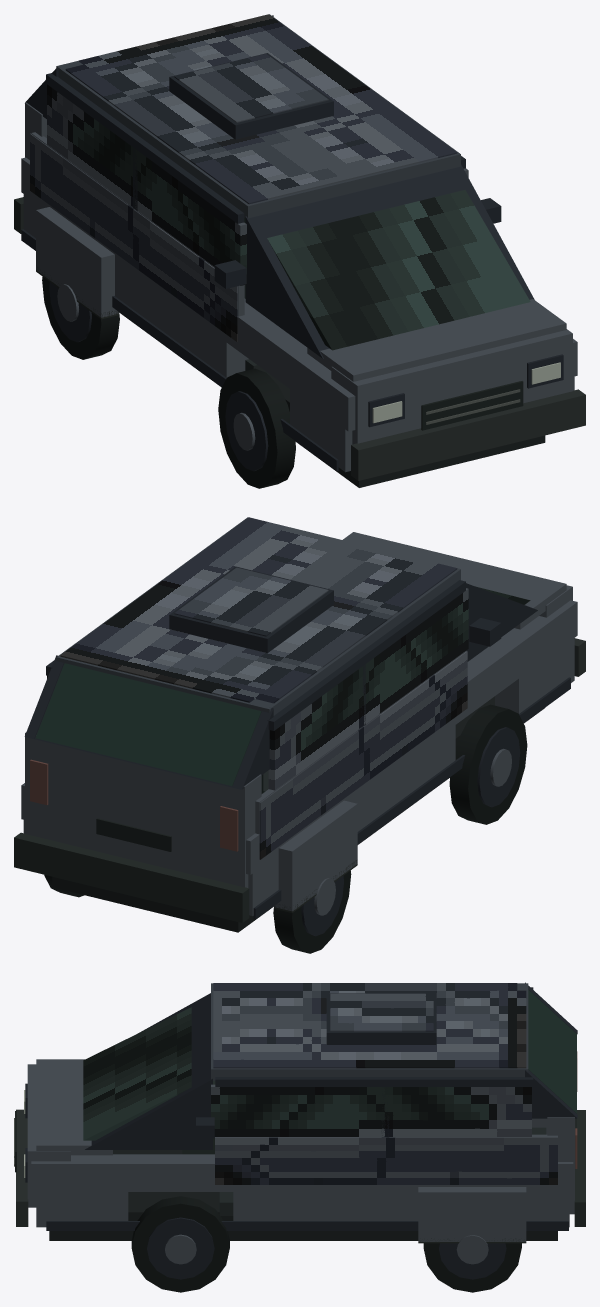
Rendered from CMU3DRMCPropVehicleMonoSupronDesatBlueFlipped.glb.
3 views of the same model, one above another, from view 1: azimuth 30°, elevation 25°; view 2: azimuth 150°, elevation 25°; view 3: azimuth 270°, elevation 25° (orthographic). The views are drawn at different scales.
Parts seen in each view (by area): view 1: source roof panel, continuous sloped windshield, painted side door -1 0, side glazing -1 0, sloping windshield surround, nose lower panel, front bumper, hood top, upper wheel arch rail -1, roof base, roof pod original top, rear wheel cover (+17 smaller); view 2: source roof panel, rear tailgate, raked rear glazing, painted side door -1 0, side glazing -1 0, rear black bumper, upper wheel arch rail -1, roof pod original top, rear wheel cover, tire 1 -1, lower skirt -1 1, hood top (+18 smaller); view 3: source roof panel, painted side door 1 0, side glazing 1 0, continuous sloped windshield, lower skirt 1 1, sloping windshield surround, upper wheel arch rail 1, rear wheel cover, hood top, chassis dark underside, tire 1 1, roof pod original top (+20 smaller).
Boxes of the visible parts, x1=… form: source roof panel: x1=65, y1=14, x2=457, y2=204; continuous sloped windshield: x1=267, y1=190, x2=530, y2=350; painted side door -1 0: x1=30, y1=133, x2=237, y2=341; side glazing -1 0: x1=47, y1=84, x2=246, y2=285; sloping windshield surround: x1=245, y1=164, x2=534, y2=358; nose lower panel: x1=331, y1=329, x2=572, y2=444; front bumper: x1=351, y1=389, x2=585, y2=480; hood top: x1=307, y1=299, x2=566, y2=381; upper wheel arch rail -1: x1=21, y1=157, x2=355, y2=431; roof base: x1=56, y1=14, x2=460, y2=218; roof pod original top: x1=174, y1=54, x2=328, y2=122; rear wheel cover: x1=36, y1=207, x2=119, y2=317; source roof panel: x1=60, y1=517, x2=457, y2=703; rear tailgate: x1=25, y1=732, x2=261, y2=887; raked rear glazing: x1=35, y1=663, x2=261, y2=785; painted side door -1 0: x1=259, y1=651, x2=467, y2=859; side glazing -1 0: x1=268, y1=588, x2=468, y2=790; rear black bumper: x1=14, y1=832, x2=249, y2=922; upper wheel arch rail -1: x1=246, y1=600, x2=577, y2=874; roof pod original top: x1=174, y1=567, x2=328, y2=636; rear wheel cover: x1=274, y1=800, x2=357, y2=911; tire 1 -1: x1=449, y1=704, x2=527, y2=824; lower skirt -1 1: x1=343, y1=718, x2=455, y2=831; hood top: x1=343, y1=532, x2=566, y2=629; source roof panel: x1=213, y1=983, x2=526, y2=1068; painted side door 1 0: x1=215, y1=1137, x2=557, y2=1184; side glazing 1 0: x1=211, y1=1084, x2=531, y2=1136; continuous sloped windshield: x1=83, y1=1007, x2=191, y2=1140; lower skirt 1 1: x1=233, y1=1185, x2=419, y2=1220; sloping windshield surround: x1=85, y1=993, x2=212, y2=1149; upper wheel arch rail 1: x1=31, y1=1154, x2=573, y2=1191; rear wheel cover: x1=418, y1=1187, x2=526, y2=1241; hood top: x1=36, y1=1059, x2=112, y2=1155; chassis dark underside: x1=49, y1=1150, x2=557, y2=1240; tire 1 1: x1=131, y1=1196, x2=229, y2=1292; roof pod original top: x1=330, y1=993, x2=433, y2=1031.
Size of the model in its own units: 0.9117 by 0.8778 by 1.98.
23 materials, 5 textured.
